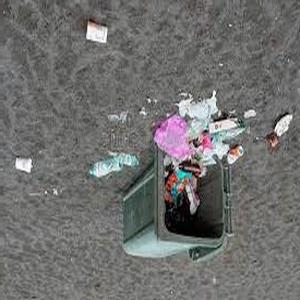Plastic: (86, 155, 125, 180)
